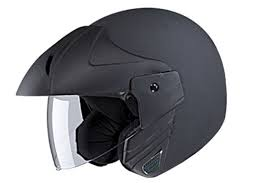helmet: (14, 6, 226, 178)
